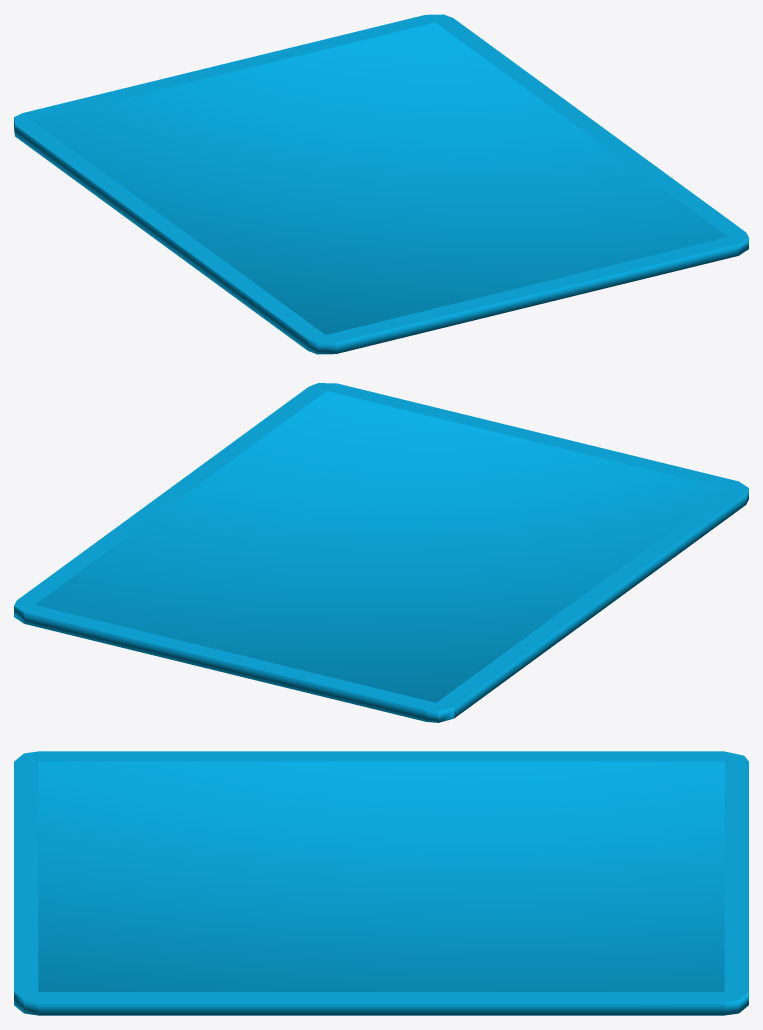
The model's file is Gas_Stove_Tray_01_Lod1.fbx.
The picture shows the model from 3 angles, top to bottom: view 1: azimuth 30°, elevation 25°; view 2: azimuth 150°, elevation 25°; view 3: azimuth 270°, elevation 25°; orthographic projection. The views are drawn at different scales.
Parts seen in each view (by area): view 1: Gas_Stove_Tray_01_Lod1; view 2: Gas_Stove_Tray_01_Lod1; view 3: Gas_Stove_Tray_01_Lod1.
Part boxes in pixels (x1=…): Gas_Stove_Tray_01_Lod1: x1=14, y1=14, x2=748, y2=354; Gas_Stove_Tray_01_Lod1: x1=14, y1=383, x2=748, y2=722; Gas_Stove_Tray_01_Lod1: x1=14, y1=751, x2=748, y2=1015.
Size of the model in its own units: 41.55 by 1.03 by 51.48.
